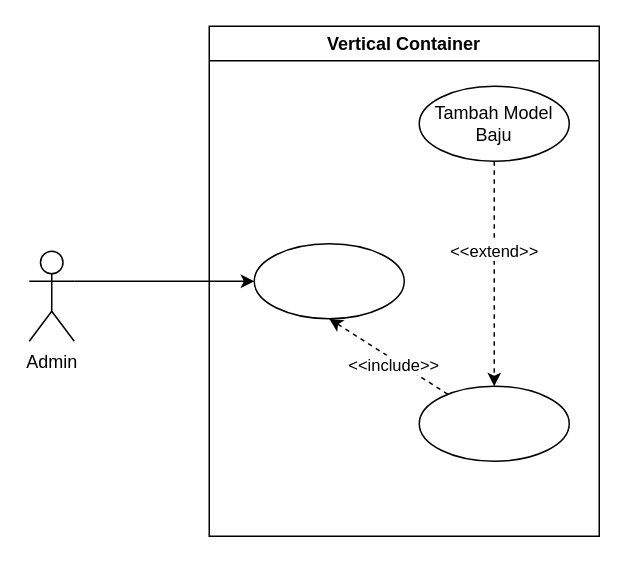
Image size: 626x563. Some labels were removed from this diagram. Here are the shapes that lost their labels. From the top down, the centre of each, then its label:
At pixel 328 280: "login".
At pixel 493 423: "Tambah Data Baju".
